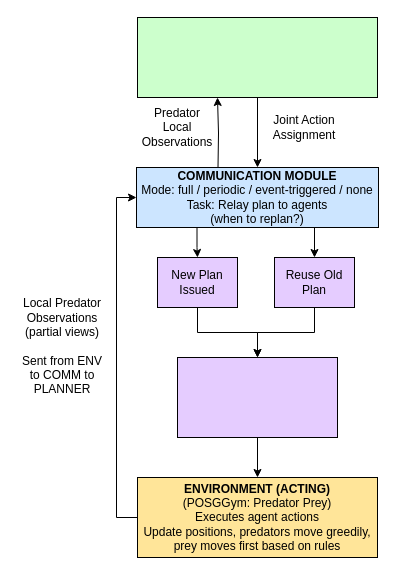
The diagram is 396 pixels wide and 575 high, and some of its shapes have lost their labels. Here are the shapes that lost their labels. From the top down, the centre of each, then its label:
At (257,57): "HTN PLANNER (PLANNING) (GTPyhop) Task: Generate cooperative plan for predators".
At (257,397): "Action Dispatch: Agent ID --> Task (UP, DOWN, LEFT, RIGHT)".
